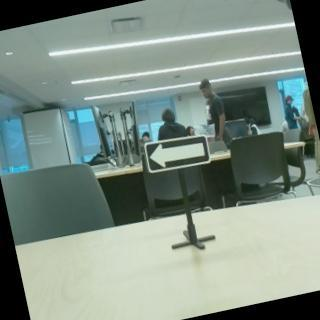sign_oneway_left: (143, 129, 215, 177)
